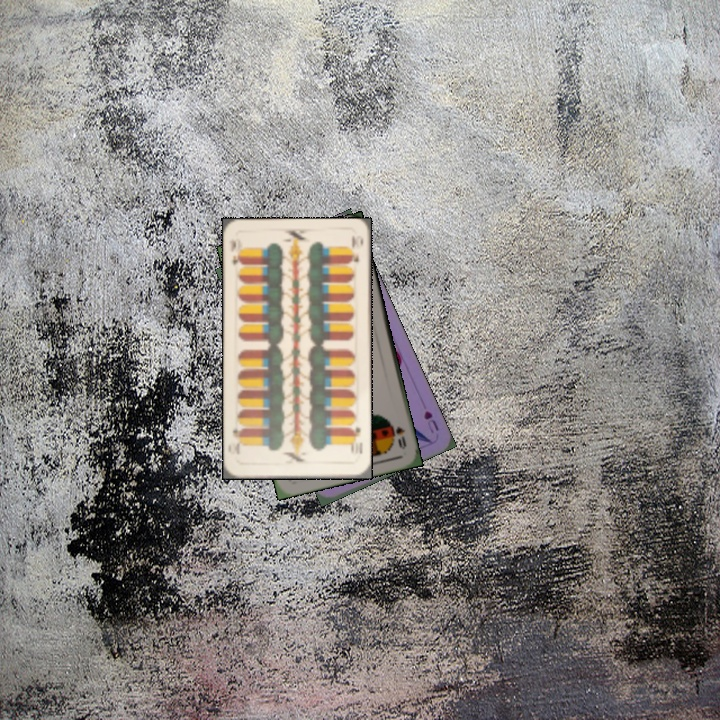E10: (226, 235, 245, 267), (347, 423, 365, 456)
HU: (420, 407, 441, 436)
SO: (392, 422, 409, 452)
